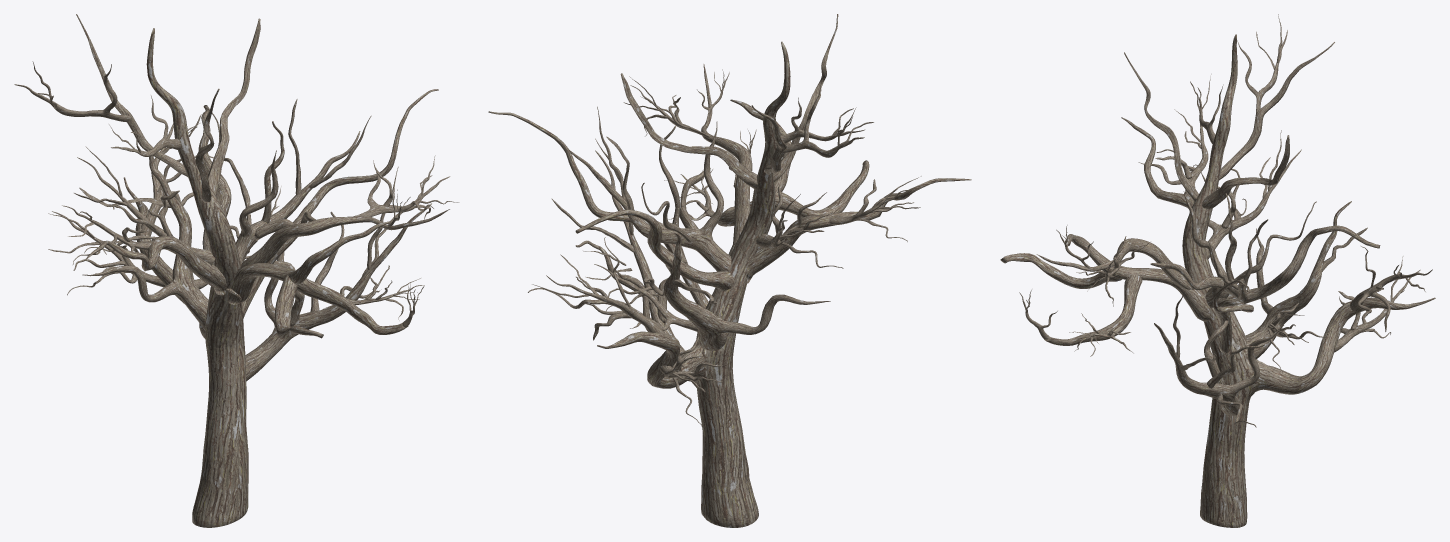
The model's file is SM_Tree01.fbx.
3 views of the same model, side by side, from view 1: azimuth 30°, elevation 25°; view 2: azimuth 150°, elevation 25°; view 3: azimuth 270°, elevation 25° (orthographic). The views are drawn at different scales.
Parts seen in each view (by area): view 1: SM_Tree01_LOD0; view 2: SM_Tree01_LOD0; view 3: SM_Tree01_LOD0.
Boxes of the visible parts, bbox=[...] form: SM_Tree01_LOD0: bbox=[14, 14, 459, 527]; SM_Tree01_LOD0: bbox=[488, 14, 971, 527]; SM_Tree01_LOD0: bbox=[1000, 14, 1435, 527].
Size of the model in its own units: 860 by 837 by 979.
1 material, 1 textured.
